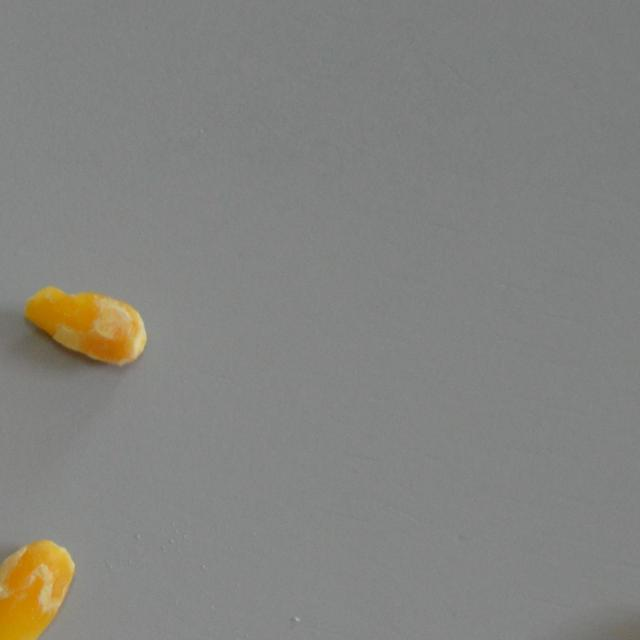pelicula: (22, 284, 149, 370), (0, 538, 77, 640)
